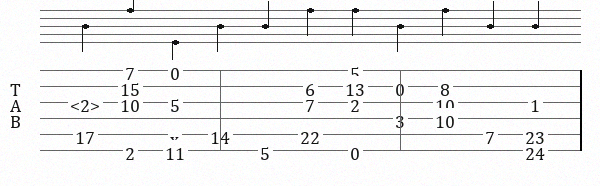0: (170, 62, 184, 78), (350, 142, 364, 158), (395, 78, 409, 94)
1: (530, 94, 544, 110)
10: (120, 94, 144, 110), (435, 94, 459, 110), (435, 110, 459, 126)
11: (165, 142, 189, 158)
13: (345, 78, 369, 94)
14: (210, 126, 234, 142)
15: (120, 78, 144, 95)
17: (75, 126, 99, 143)
2: (125, 142, 139, 158), (350, 94, 364, 110)
22: (300, 126, 324, 142)
23: (525, 126, 549, 142)
24: (525, 142, 549, 158)
3: (395, 110, 409, 126)
5: (170, 94, 184, 111), (260, 142, 274, 159), (350, 62, 364, 79)
6: (305, 78, 319, 94)
7: (125, 62, 139, 79), (305, 94, 319, 111), (485, 126, 499, 143)
8: (440, 78, 454, 94)
harmonic: (70, 94, 104, 110)
x: (170, 128, 183, 141)
